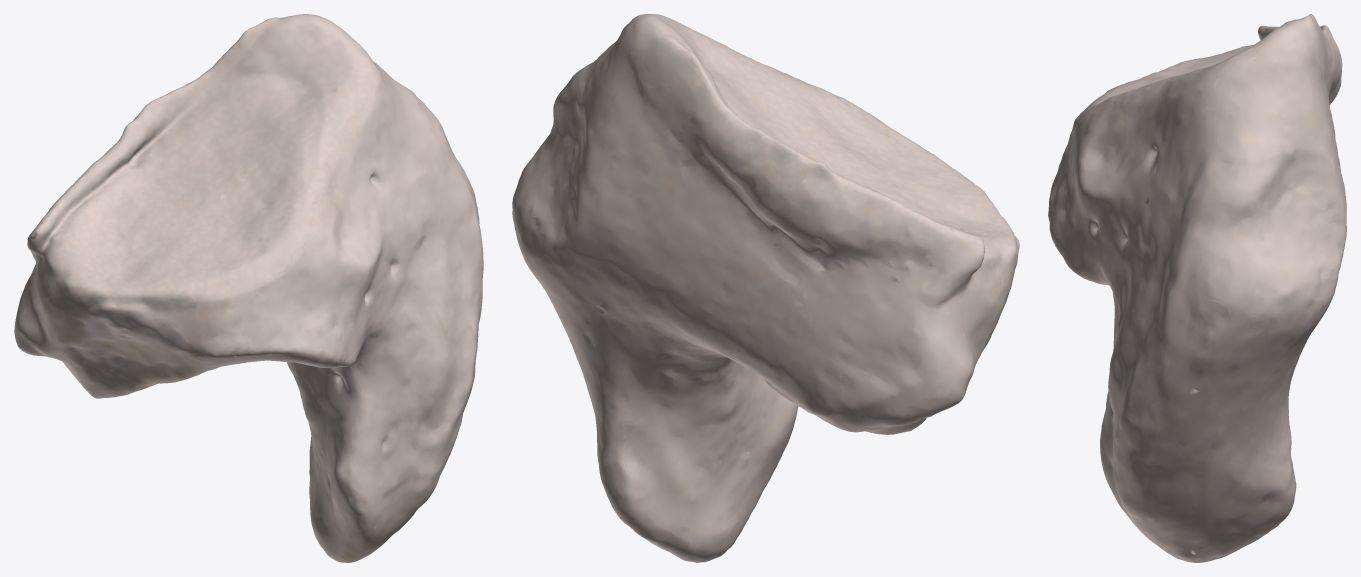
3 renders of one model, left to right at view 1: azimuth 30°, elevation 25°; view 2: azimuth 150°, elevation 25°; view 3: azimuth 270°, elevation 25°, orthographic. The views are drawn at different scales.
Parts seen in each view (by area): view 1: Os carpi ulnare _Huhn.001; view 2: Os carpi ulnare _Huhn.001; view 3: Os carpi ulnare _Huhn.001.
Boxes of the visible parts, box(x1,y1,x2,y2) form: Os carpi ulnare _Huhn.001: box(14, 14, 483, 562); Os carpi ulnare _Huhn.001: box(512, 14, 1019, 562); Os carpi ulnare _Huhn.001: box(1048, 14, 1346, 562).
Size of the model in its own units: 861 by 988 by 499.
Materials: 1 (1 with a texture image).
